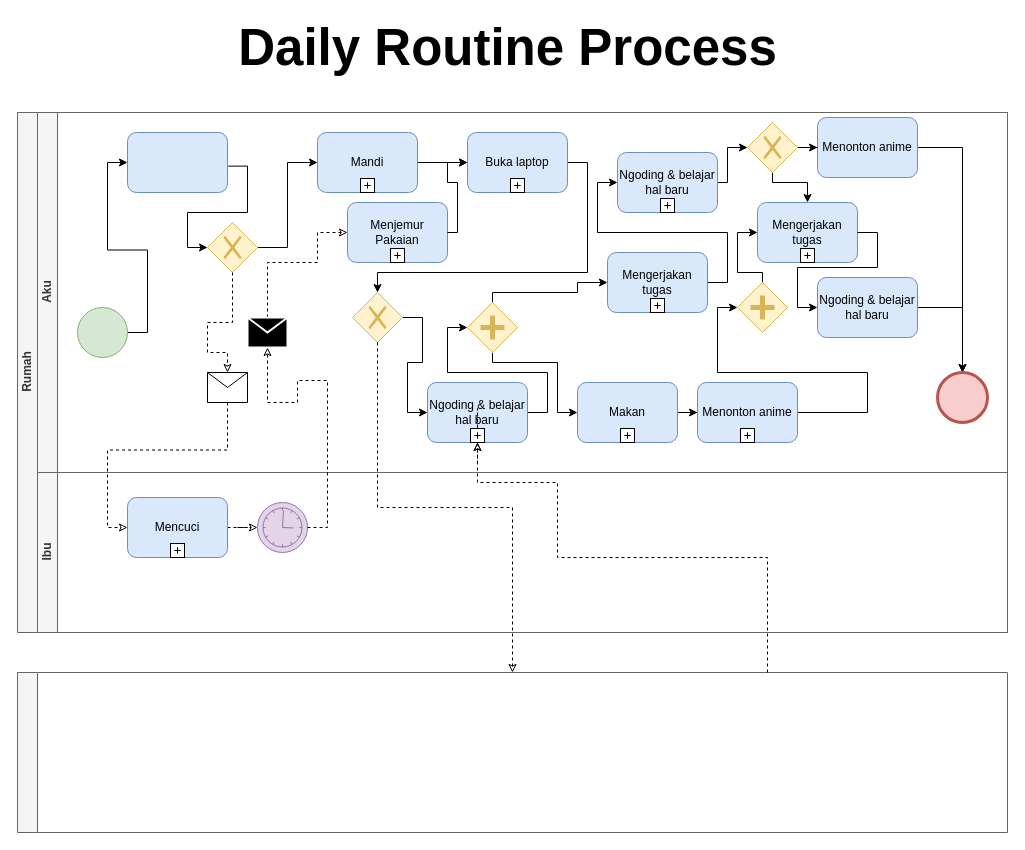
Some shapes in this 1025 by 850 pixel diagram are drawn without their labels. Here are the shapes that lost their labels. From the top down, the centre of each, then its label:
At point (177, 162): "Sarapan".
At point (102, 332): "Start".
At point (962, 397): "End".
At point (512, 752): "Kuliah Daring".
